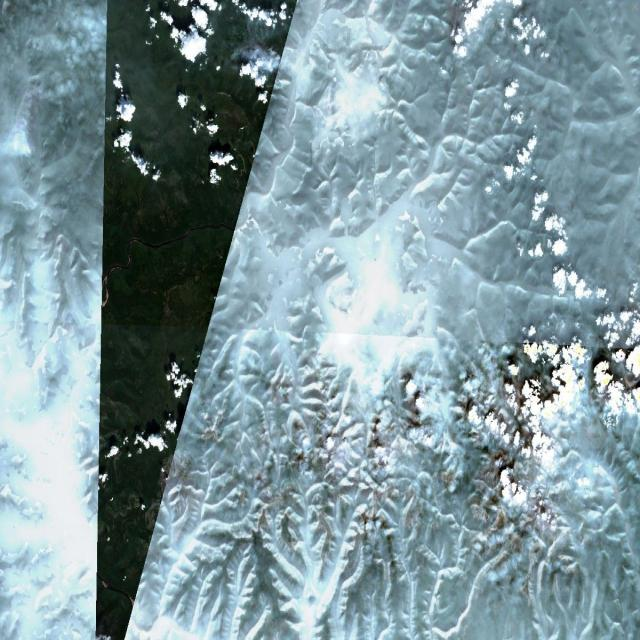fire: (230, 36, 290, 79)
